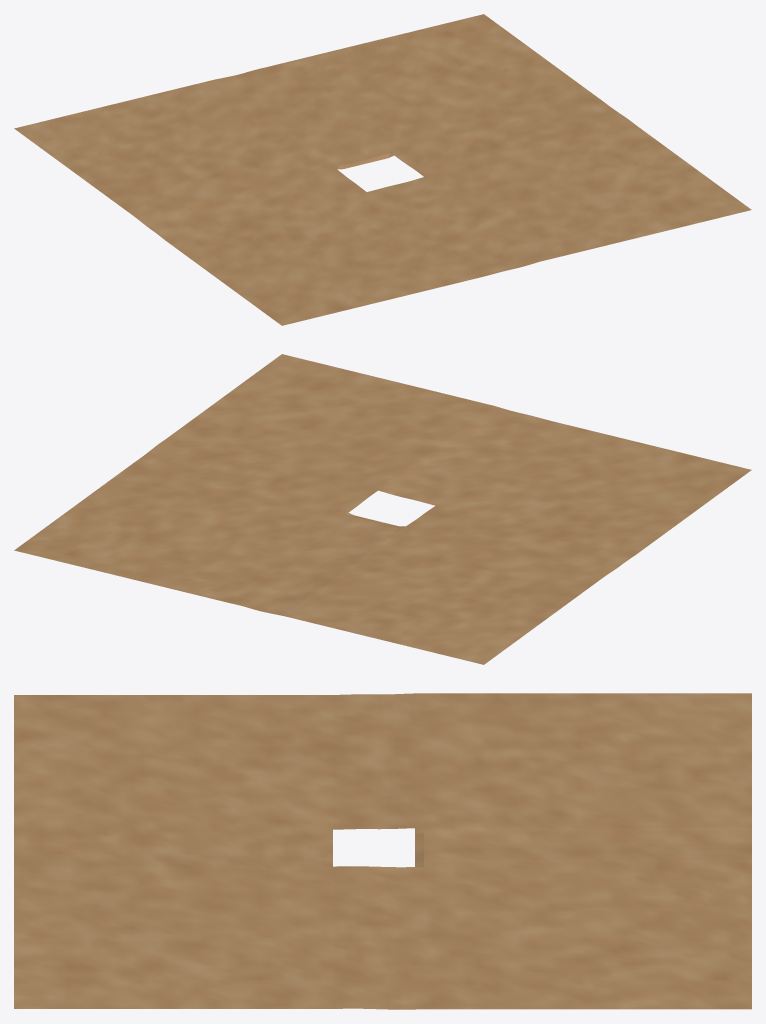
Rendered from backdrop_ground.glb.
The picture shows the model from 3 angles, top to bottom: view 1: azimuth 30°, elevation 25°; view 2: azimuth 150°, elevation 25°; view 3: azimuth 270°, elevation 25°; orthographic projection. The views are drawn at different scales.
Parts seen in each view (by area): view 1: FarGround; view 2: FarGround; view 3: FarGround.
Boxes of the visible parts, <box> form: FarGround: <box>14,14,751,325</box>; FarGround: <box>14,354,751,664</box>; FarGround: <box>14,693,751,1009</box>.
Bounding box in the file's own units: 1640 × 6.16 × 1620.
